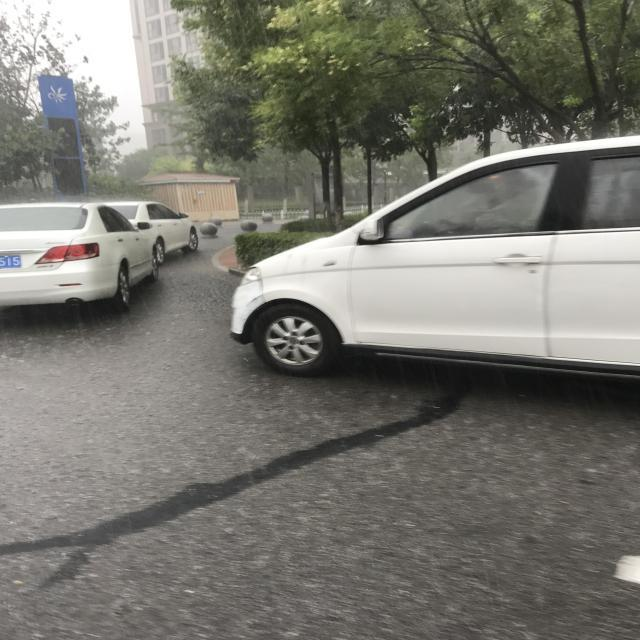car: (137, 0, 384, 412), (202, 481, 307, 640), (202, 441, 264, 518)
